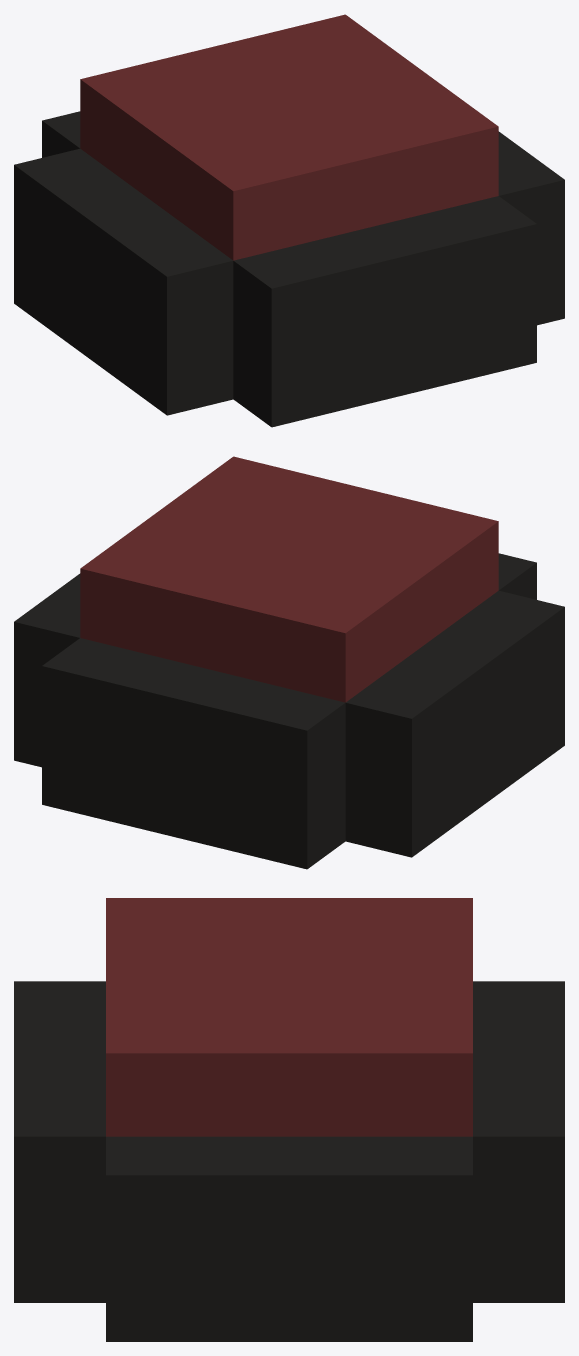
The model's file is char-74-helm_lgt_2a_ja_color.obj.
3 views of the same model, one above another, from view 1: azimuth 30°, elevation 25°; view 2: azimuth 150°, elevation 25°; view 3: azimuth 270°, elevation 25° (orthographic). The views are drawn at different scales.
Parts seen in each view (by area): view 1: helm_lgt_2a_ja_color; view 2: helm_lgt_2a_ja_color; view 3: helm_lgt_2a_ja_color.
Part boxes in pixels (x1,y1,x2,y2): helm_lgt_2a_ja_color: [14, 14, 564, 427]; helm_lgt_2a_ja_color: [14, 456, 564, 869]; helm_lgt_2a_ja_color: [14, 898, 564, 1341].
Size of the model in its own units: 0.6 by 0.3 by 0.6.
Materials: 1 (1 with a texture image).
